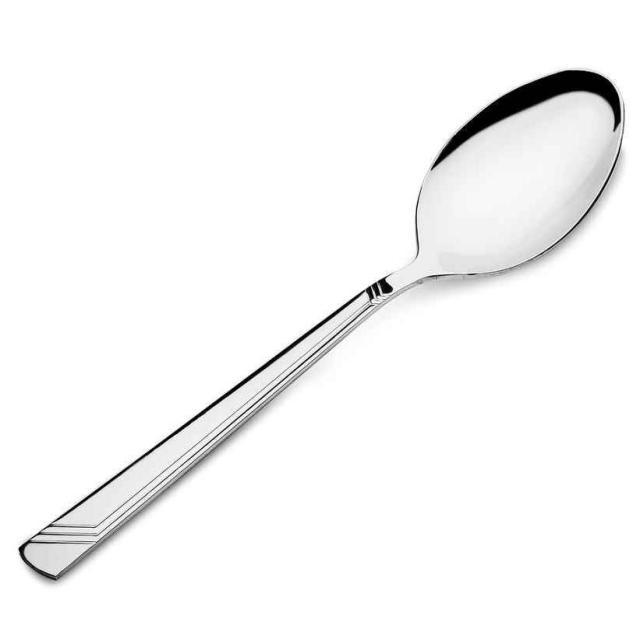plastic utensil: (20, 71, 624, 578)
